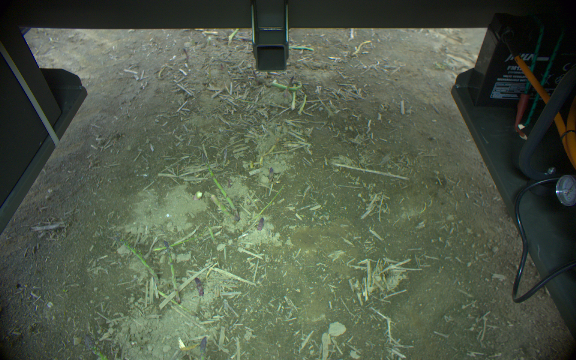aspa: (201, 152, 239, 218), (118, 237, 161, 287), (161, 239, 182, 305), (208, 193, 235, 220), (81, 335, 104, 360), (269, 78, 303, 91), (192, 275, 206, 298), (298, 94, 309, 115), (290, 82, 297, 111)
